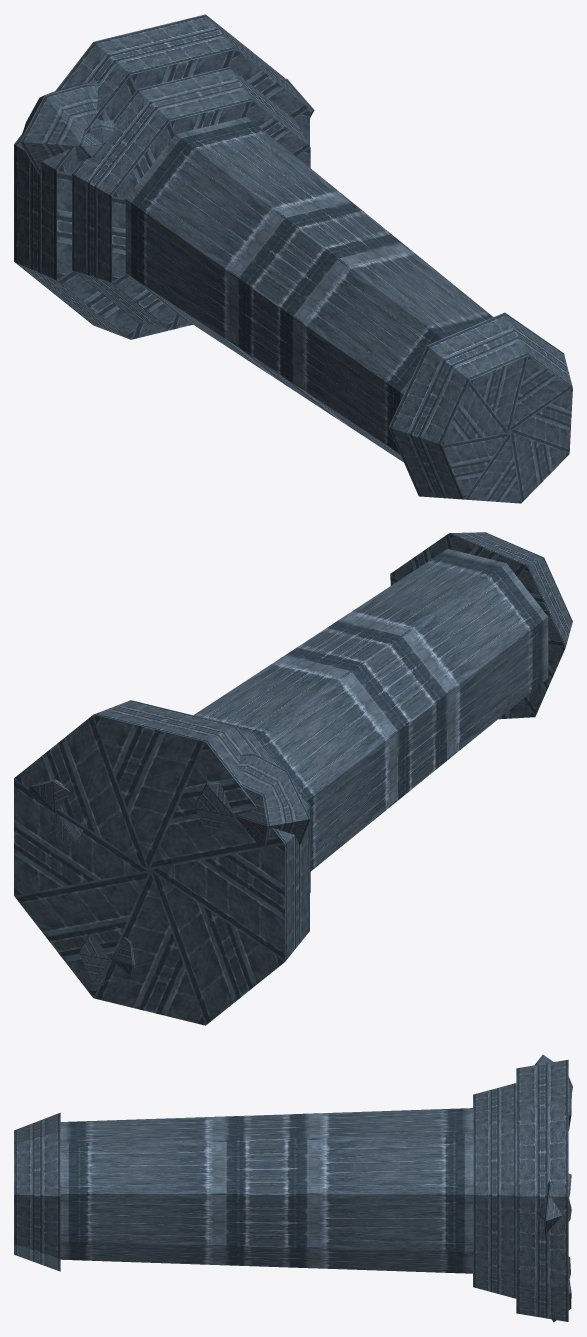
Rendered from rv_broken_pillar.obj.
3 renders of one model, top to bottom at view 1: azimuth 30°, elevation 25°; view 2: azimuth 150°, elevation 25°; view 3: azimuth 270°, elevation 25°, orthographic. The views are drawn at different scales.
Visible parts, largest first — view 1: rv_broken_pillar; view 2: rv_broken_pillar; view 3: rv_broken_pillar.
Boxes of the visible parts, left/top/right/bottom form: rv_broken_pillar: left=14, top=14, right=572, bottom=503; rv_broken_pillar: left=14, top=532, right=572, bottom=1025; rv_broken_pillar: left=14, top=1055, right=572, bottom=1322.
Size of the model in its own units: 2.27 by 2.12 by 4.79.
1 material, 1 textured.
